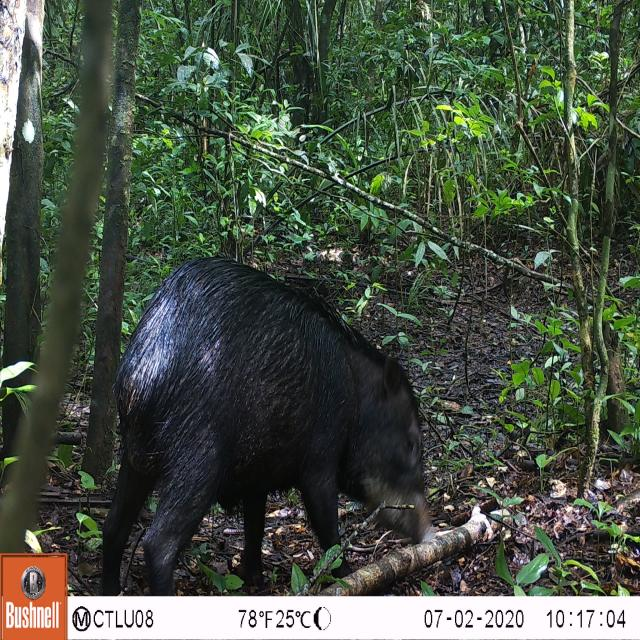Collared Peccary: (91, 247, 452, 593)
